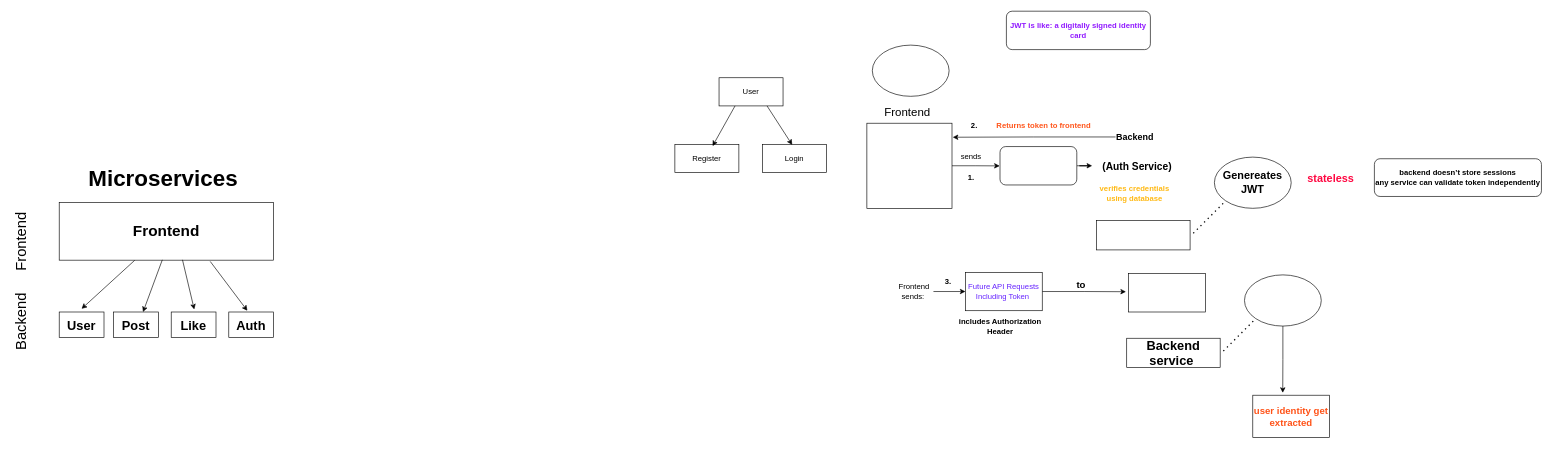
Some shapes in this 1553 by 449 pixel diagram are drawn without their labels. The shapes that lost their labels are listed below. From the top down, each one's box as (x1, y1, x2, y2) in pixels, then its label:
(872, 44, 949, 96): frontend stores tok en
(866, 123, 952, 208): { "username": "john", "password": "secret" }
(999, 146, 1077, 185): /api/auth/login
(1096, 220, 1190, 250): Auth service
(1128, 273, 1205, 312): Backend like user, post and like service
(1244, 274, 1321, 326): Validate JWT
